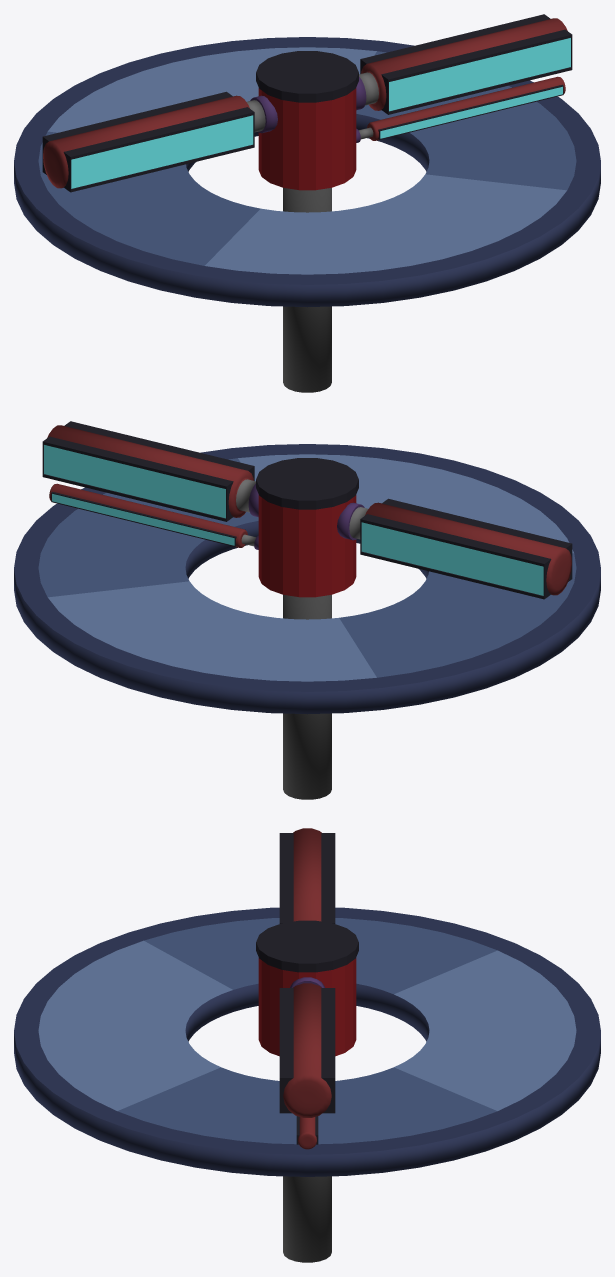
The model's file is WipeoutSpinner.fbx.
3 renders of one model, top to bottom at view 1: azimuth 30°, elevation 25°; view 2: azimuth 150°, elevation 25°; view 3: azimuth 270°, elevation 25°, orthographic.
Parts seen in each view (by area): view 1: Platform, SpinnerTop_e, SpinnerTop, SpinnerBottom, Pole, SpinnerBottom_e; view 2: Platform, SpinnerTop_e, SpinnerTop, SpinnerBottom, Pole, SpinnerBottom_e; view 3: Platform, SpinnerTop, SpinnerTop_e, Pole, SpinnerBottom.
Part boxes in pixels (x1,y1,x2,y2): Platform: [14, 37, 600, 307]; SpinnerTop_e: [42, 14, 572, 192]; SpinnerTop: [43, 18, 567, 188]; SpinnerBottom: [258, 76, 565, 190]; Pole: [283, 187, 331, 392]; SpinnerBottom_e: [369, 84, 563, 139]; Platform: [14, 444, 600, 714]; SpinnerTop_e: [42, 421, 572, 599]; SpinnerTop: [47, 425, 571, 595]; SpinnerBottom: [49, 483, 356, 597]; Pole: [283, 594, 331, 799]; SpinnerBottom_e: [51, 491, 245, 546]; Platform: [14, 907, 600, 1176]; SpinnerTop: [256, 828, 358, 1117]; SpinnerTop_e: [279, 833, 335, 1113]; Pole: [283, 1176, 331, 1262]; SpinnerBottom: [258, 996, 356, 1149].
Bounding box in the file's own units: 2400 × 1400 × 2400.
